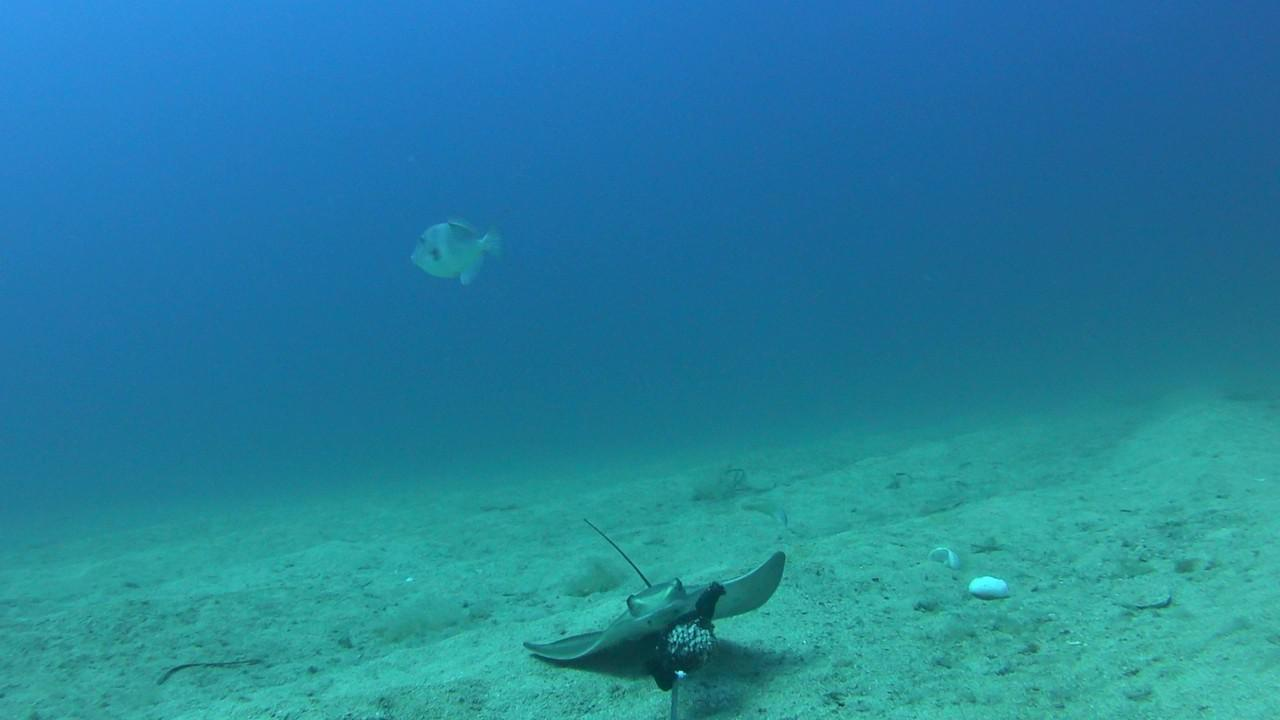balistes: (406, 206, 508, 294)
myliobatis: (452, 481, 825, 661)
